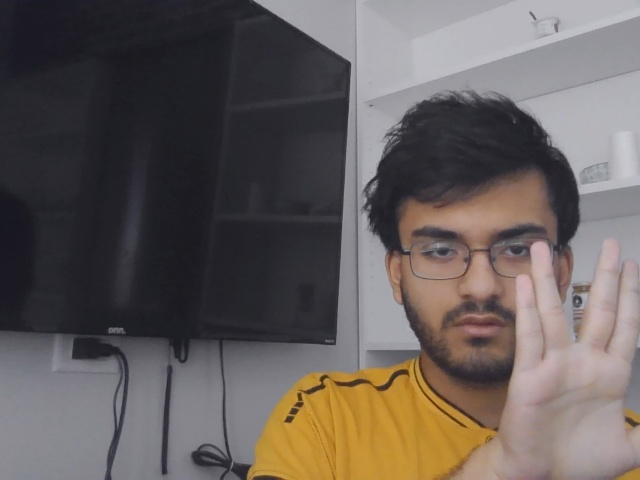LiveLong: (497, 236, 640, 480)
